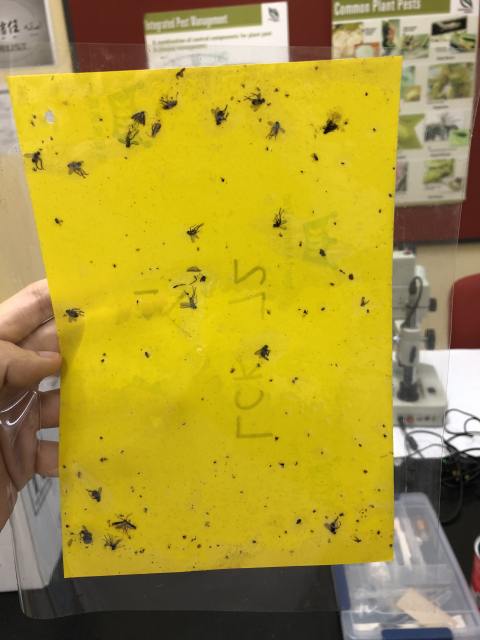DBM: (111, 513, 138, 536), (143, 121, 164, 140), (130, 108, 147, 127)
